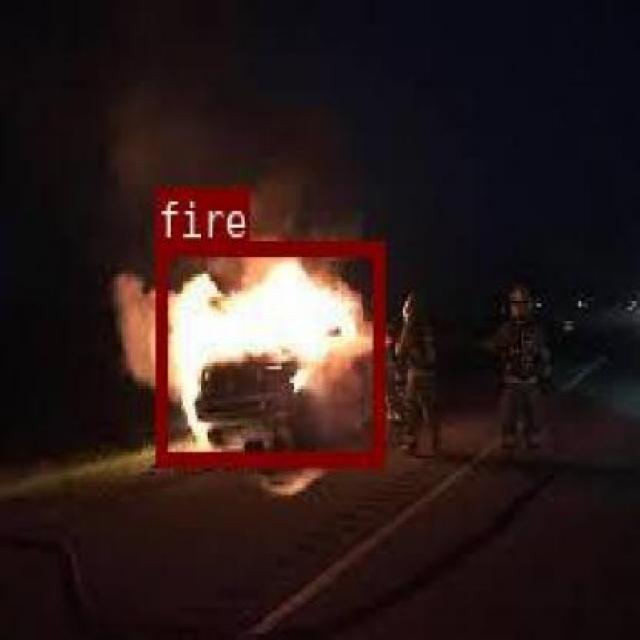fire: (155, 238, 383, 464)
